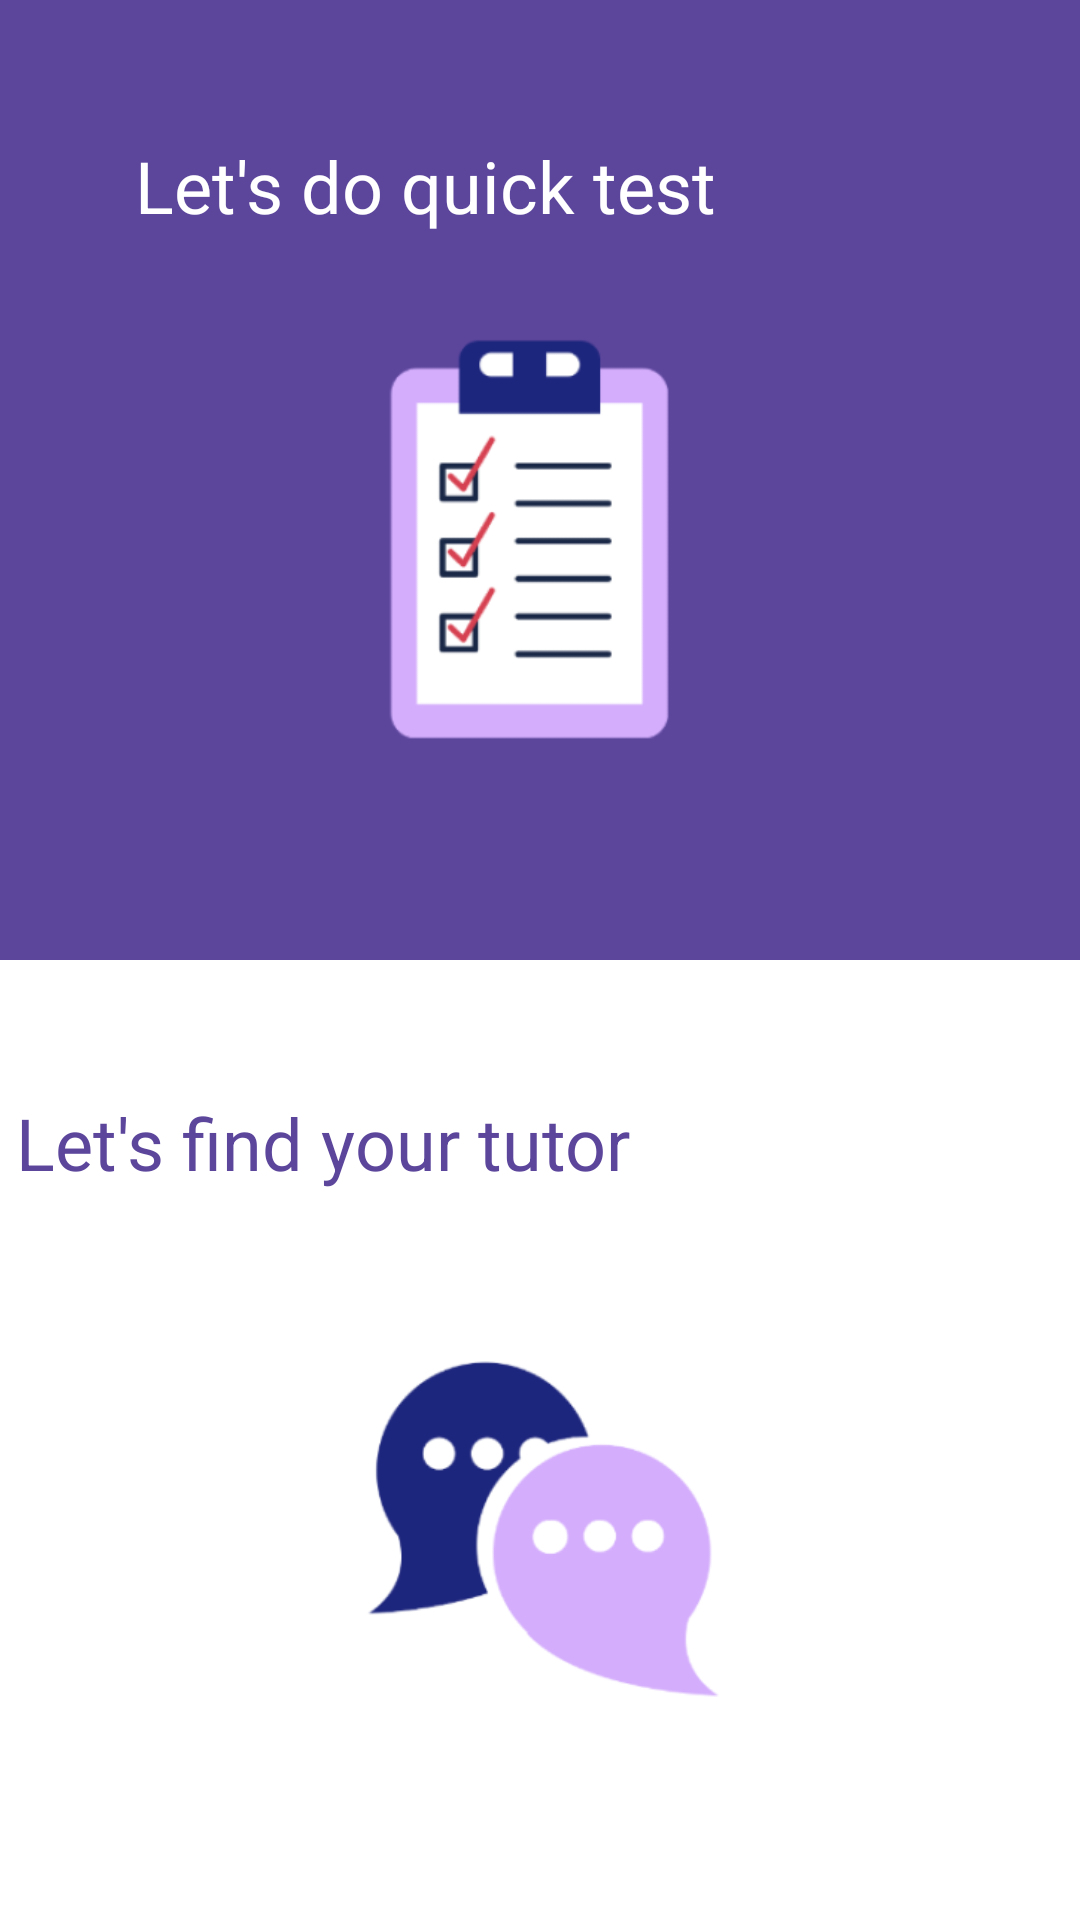

Point at icon controls on the screen. Image size 1080 x 1920, points as (x,y).
chat: (543,1528)
